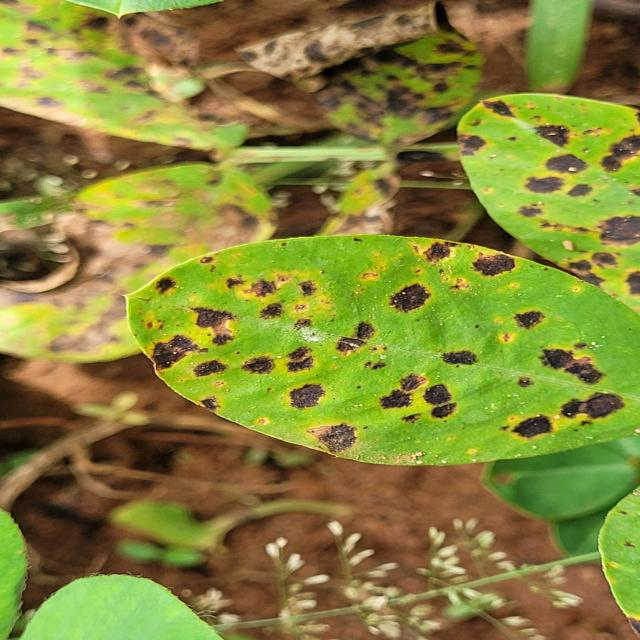Ground nut_tikka leaf spot: (119, 234, 640, 466)
